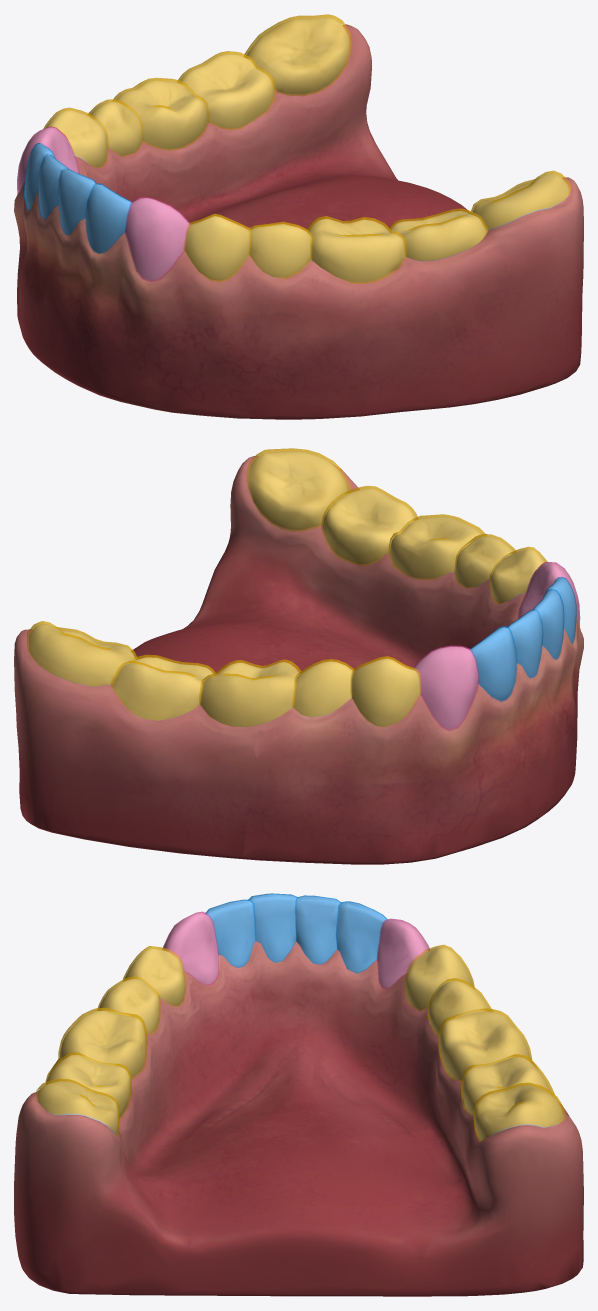
Rendered from yachijiegou.fbx.
3 renders of one model, top to bottom at view 1: azimuth 30°, elevation 25°; view 2: azimuth 150°, elevation 25°; view 3: azimuth 270°, elevation 25°, orthographic.
Visible parts, largest first — view 1: 对象001, cemian, qianmen, zhongjian; view 2: 对象001, cemian, qianmen, zhongjian; view 3: 对象001, cemian, qianmen, zhongjian.
Part boxes in pixels (box(x1,y1,x2,y2)): 对象001: box(14, 17, 583, 419); cemian: box(43, 14, 570, 283); qianmen: box(23, 143, 132, 253); zhongjian: box(17, 126, 191, 281); 对象001: box(14, 451, 583, 864); cemian: box(26, 448, 547, 727); qianmen: box(469, 577, 576, 701); zhongjian: box(412, 561, 580, 731); 对象001: box(14, 894, 583, 1296); cemian: box(36, 944, 565, 1141); qianmen: box(205, 893, 387, 973); zhongjian: box(162, 911, 429, 988).
Size of the model in its own units: 108 by 50.26 by 126.
Materials: 4 (1 with a texture image).
